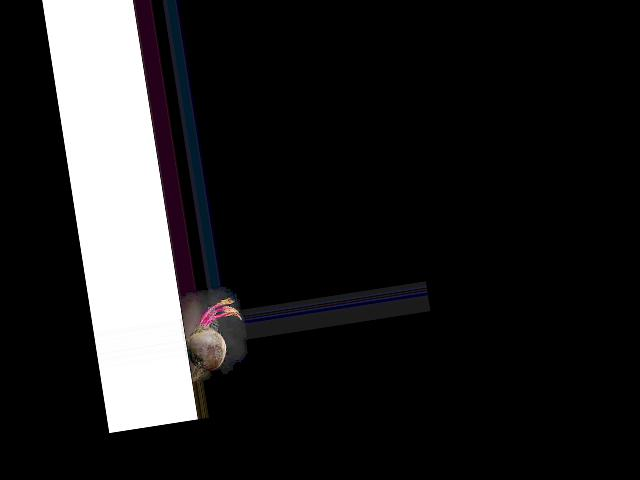beet: (180, 297, 249, 383)
